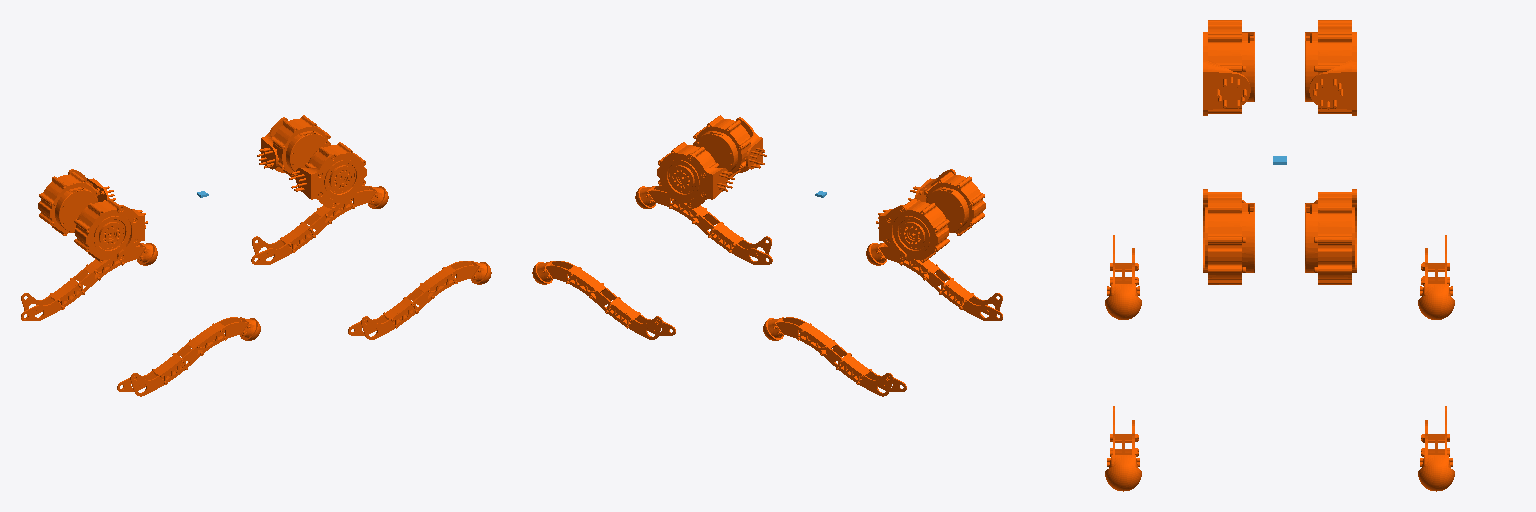
The robot description file, URDF, robot "rc":
<?xml version="1.0" ?>
<robot name="rc">
  <!--base_link comes from the new SolidWorks export; tuned legs/collisions come from old_rc_description.-->
  <material name="black">
    <color rgba="0.0 0.0 0.0 1.0"/>
  </material>
  <material name="blue">
    <color rgba="0.0 0.0 0.8 1.0"/>
  </material>
  <material name="green">
    <color rgba="0.0 0.8 0.0 1.0"/>
  </material>
  <material name="grey">
    <color rgba="0.2 0.2 0.2 1.0"/>
  </material>
  <material name="silver">
    <color rgba="0.9137254901960784 0.9137254901960784 0.8470588235294118 1.0"/>
  </material>
  <material name="orange">
    <color rgba="1.0 0.4235294117647059 0.0392156862745098 1.0"/>
  </material>
  <material name="brown">
    <color rgba="0.8705882352941177 0.8117647058823529 0.7647058823529411 1.0"/>
  </material>
  <material name="red">
    <color rgba="0.8 0.0 0.0 1.0"/>
  </material>
  <material name="white">
    <color rgba="1.0 1.0 1.0 1.0"/>
  </material>
  <link name="base_link">
    <inertial>
      <origin xyz="0.0018007 0.00050163 -0.0031242" rpy="0 0 0"/>
      <mass value="3.8805"/>
      <inertia ixx="0.0091487" ixy="2.5012E-07" ixz="-1.6225E-07" iyy="0.0093184" iyz="5.4053E-07" izz="0.015121"/>
    </inertial>
    <visual>
      <origin xyz="0 0 0" rpy="0 0 0"/>
      <geometry>
        <mesh filename="package://rc_description/meshes/base_link.STL"/>
      </geometry>
      <material name="">
        <color rgba="0.75294 0.75294 0.75294 1"/>
      </material>
    </visual>
    <collision>
      <origin xyz="0 0 0" rpy="0 0 0"/>
      <geometry>
        <box size="0.32 0.252 0.135"/>
      </geometry>
    </collision>
  </link>
  <joint name="base_imu_joint" type="fixed">
    <origin rpy="0. 0. 0." xyz="0. 0. 0."/>
    <parent link="base_link"/>
    <child link="base_imu"/>
  </joint>
  <link name="base_imu">
    <inertial>
      <mass value="0.01"/>
      <origin rpy="0 0 0" xyz="0 0 0"/>
      <inertia ixx="0.000001" ixy="0" ixz="0" iyy="0.000001" iyz="0" izz="0.000001"/>
    </inertial>
    <visual>
      <origin rpy="0 0 0" xyz="0 0 0"/>
      <geometry>
        <box size="0.015 0.015 0.004"/>
      </geometry>
    </visual>
    <material name="orange">
      <color rgba="255 108 10 255"/>
    </material>
  </link>
  <gazebo reference="base_imu">
    <material>Gazebo/Orange</material>
  </gazebo>
  <gazebo reference="base_imu_joint">
    <disableFixedJointLumping>true</disableFixedJointLumping>
  </gazebo>
  <joint name="FL_hip_joint" type="revolute">
    <origin rpy="0 0 0" xyz="0.2305 0.055 0.01"/>
    <parent link="base_link"/>
    <child link="FL_hip"/>
    <axis xyz="1 0 0"/>
    <dynamics damping="0" friction="0.001"/>
    <limit effort="53.5" lower="-0.9773843811168246" upper="0.9773843811168246" velocity="11"/>
  </joint>
  <link name="FL_hip">
    <visual>
      <origin rpy="0 0 0" xyz="0 0 0"/>
      <geometry>
        <mesh filename="package://rc_description/meshes/hip.dae" scale="1 1 1"/>
      </geometry>
      <material name="orange"/>
    </visual>
    <collision>
      <origin rpy="1.5707963267948966 0 0" xyz="0 0 0"/>
      <geometry>
        <cylinder length="0.0631" radius="0.06275"/>
      </geometry>
    </collision>
    <inertial>
      <origin rpy="0 0 0" xyz="-0.0055 0.0069 0.0001"/>
      <mass value="0.9754"/>
      <inertia ixx="0.0002" ixy="0.0000" ixz="0.0" iyy="0.0005" iyz="0" izz="0.0004"/>
    </inertial>
  </link>
  <joint name="FL_thigh_joint" type="revolute">
    <origin rpy="0 0 0" xyz="0 0.1231 0"/>
    <parent link="FL_hip"/>
    <child link="FL_thigh"/>
    <axis xyz="0 1 0"/>
    <dynamics damping="0" friction="0.001"/>
    <limit effort="53.5" lower="-1.0471975511965976" upper="4.1887902047863905" velocity="11"/>
  </joint>
  <link name="FL_thigh">
    <visual>
      <origin rpy="0 0 0" xyz="0 0 0"/>
      <geometry>
        <mesh filename="package://rc_description/meshes/thigh.dae" scale="1 1 1"/>
      </geometry>
      <material name="orange"/>
    </visual>
    <collision>
      <origin rpy="0 1.4707963267948965 0" xyz="-0.005 0 -0.125"/>
      <geometry>
        <box size="0.25 0.065 0.085"/>
      </geometry>
    </collision>
    <collision>
      <origin rpy="1.5707963267948966 0 0" xyz="0 0.0035 0"/>
      <geometry>
        <cylinder length="0.0655" radius="0.054"/>
      </geometry>
    </collision>
    <inertial>
      <origin rpy="0 0 0" xyz="-0.0016 -0.0343 -0.0343"/>
      <mass value="1.6868"/>
      <inertia ixx="0.0119" ixy="0" ixz="-0.0000" iyy="0.0110" iyz="0.0019" izz="0.0020"/>
    </inertial>
  </link>
  <joint name="FL_calf_joint" type="revolute">
    <origin rpy="0 0 0" xyz="0 0 -0.25"/>
    <parent link="FL_thigh"/>
    <child link="FL_calf"/>
    <axis xyz="0 1 0"/>
    <dynamics damping="0" friction="0.001"/>
    <limit effort="53.5" lower="-2.8012534494508987" upper="-0.7417649320975901" velocity="11"/>
  </joint>
  <link name="FL_calf">
    <visual>
      <origin rpy="0 0 0" xyz="0 0 0"/>
      <geometry>
        <mesh filename="package://rc_description/meshes/calf.dae" scale="1 1 1"/>
      </geometry>
      <material name="orange"/>
    </visual>
    <collision>
      <origin rpy="0 1.2707963267948965 0" xyz="0.005 0 -0.06335"/>
      <geometry>
        <box size="0.1067 0.02988 0.024"/>
      </geometry>
    </collision>
    <inertial>
      <origin rpy="0 0 0" xyz="0.0149 -0.0003 -0.1396"/>
      <mass value="0.1304"/>
      <inertia ixx="0.0008" ixy="0.0" ixz="0.0001" iyy="0.0008" iyz="0.0" izz="0.0001"/>
    </inertial>
  </link>
  <joint dont_collapse="true" name="FL_calflower_joint" type="fixed">
    <origin rpy="0 0 0" xyz="0 0 -0.1"/>
    <parent link="FL_calf"/>
    <child link="FL_calflower"/>
  </joint>
  <link name="FL_calflower">
    <collision>
      <origin rpy="0 1.407963267948966 0" xyz="0.026 0 -0.04"/>
      <geometry>
        <box size="0.05 0.0258 0.025"/>
      </geometry>
    </collision>
  </link>
  <joint name="FL_calflower1_joint" type="fixed">
    <origin rpy="0 1.707963267948966 0" xyz="0.03 0 -0.09"/>
    <parent link="FL_calflower"/>
    <child link="FL_calflower1"/>
    <axis xyz="0 0 0"/>
  </joint>
  <link name="FL_calflower1">
    <collision>
      <origin rpy="0 0 0" xyz="0 0 0"/>
      <geometry>
        <box size="0.05 0.0258 0.025"/>
      </geometry>
    </collision>
  </link>
  <joint dont_collapse="true" name="FL_foot_fixed" type="fixed">
    <origin rpy="0 0 0" xyz="0.01 0 -0.2287"/>
    <parent link="FL_calf"/>
    <child link="FL_foot"/>
  </joint>
  <link name="FL_foot">
    <visual>
      <origin rpy="0 0 0" xyz="0 0 0"/>
      <geometry>
        <sphere radius="0.011000000000000001"/>
      </geometry>
      <material name="orange"/>
    </visual>
    <collision>
      <origin rpy="0 0 0" xyz="0 0 0"/>
      <geometry>
        <sphere radius="0.021"/>
      </geometry>
    </collision>
    <inertial>
      <mass value="0.0911609"/>
      <inertia ixx="1.608078276e-05" ixy="0.0" ixz="0.0" iyy="1.608078276e-05" iyz="0.0" izz="1.608078276e-05"/>
    </inertial>
  </link>
  <gazebo reference="FL_foot_fixed">
    <disableFixedJointLumping>true</disableFixedJointLumping>
  </gazebo>
  <gazebo reference="FL_hip">
    <mu1>0.2</mu1>
    <mu2>0.2</mu2>
    <material>Gazebo/DarkGrey</material>
  </gazebo>
  <gazebo reference="FL_thigh">
    <mu1>0.2</mu1>
    <mu2>0.2</mu2>
    <self_collide>1</self_collide>
    <material>Gazebo/DarkGrey</material>
    <kp value="1000000.0"/>
    <kd value="1.0"/>
  </gazebo>
  <gazebo reference="FL_calf">
    <mu1>0.2</mu1>
    <mu2>0.2</mu2>
    <self_collide>1</self_collide>
  </gazebo>
  <gazebo reference="FL_foot">
    <mu1>0.6</mu1>
    <mu2>0.6</mu2>
    <self_collide>1</self_collide>
    <material>Gazebo/DarkGrey</material>
    <kp value="1000000.0"/>
    <kd value="1.0"/>
  </gazebo>
  <joint name="RL_hip_joint" type="revolute">
    <origin rpy="0 0 0" xyz="-0.2305 0.055 0.01"/>
    <parent link="base_link"/>
    <child link="RL_hip"/>
    <axis xyz="1 0 0"/>
    <dynamics damping="0" friction="0.001"/>
    <limit effort="53.5" lower="-0.9773843811168246" upper="0.9773843811168246" velocity="11"/>
  </joint>
  <link name="RL_hip">
    <visual>
      <origin rpy="0 3.141592653589793 0" xyz="0 0 0"/>
      <geometry>
        <mesh filename="package://rc_description/meshes/hip.dae" scale="1 1 1"/>
      </geometry>
      <material name="orange"/>
    </visual>
    <collision>
      <origin rpy="1.5707963267948966 0 0" xyz="0 0 0"/>
      <geometry>
        <cylinder length="0.0631" radius="0.06275"/>
      </geometry>
    </collision>
    <inertial>
      <origin rpy="0 0 0" xyz="0.0055 0.0069 0.0001"/>
      <mass value="0.9754"/>
      <inertia ixx="0.0002" ixy="-0.0000" ixz="-0.0" iyy="0.0005" iyz="0" izz="0.0004"/>
    </inertial>
  </link>
  <joint name="RL_thigh_joint" type="revolute">
    <origin rpy="0 0 0" xyz="0 0.1231 0"/>
    <parent link="RL_hip"/>
    <child link="RL_thigh"/>
    <axis xyz="0 1 0"/>
    <dynamics damping="0" friction="0.001"/>
    <limit effort="53.5" lower="-1.0471975511965976" upper="4.1887902047863905" velocity="11"/>
  </joint>
  <link name="RL_thigh">
    <visual>
      <origin rpy="0 0 0" xyz="0 0 0"/>
      <geometry>
        <mesh filename="package://rc_description/meshes/thigh.dae" scale="1 1 1"/>
      </geometry>
      <material name="orange"/>
    </visual>
    <collision>
      <origin rpy="0 1.4707963267948965 0" xyz="-0.005 0 -0.125"/>
      <geometry>
        <box size="0.25 0.065 0.085"/>
      </geometry>
    </collision>
    <collision>
      <origin rpy="1.5707963267948966 0 0" xyz="0 0.0035 0"/>
      <geometry>
        <cylinder length="0.0655" radius="0.054"/>
      </geometry>
    </collision>
    <inertial>
      <origin rpy="0 0 0" xyz="-0.0016 -0.0343 -0.0343"/>
      <mass value="1.6868"/>
      <inertia ixx="0.0119" ixy="0" ixz="-0.0000" iyy="0.0110" iyz="0.0019" izz="0.0020"/>
    </inertial>
  </link>
  <joint name="RL_calf_joint" type="revolute">
    <origin rpy="0 0 0" xyz="0 0 -0.25"/>
    <parent link="RL_thigh"/>
    <child link="RL_calf"/>
    <axis xyz="0 1 0"/>
    <dynamics damping="0" friction="0.001"/>
    <limit effort="53.5" lower="-2.8012534494508987" upper="-0.7417649320975901" velocity="11"/>
  </joint>
  <link name="RL_calf">
    <visual>
      <origin rpy="0 0 0" xyz="0 0 0"/>
      <geometry>
        <mesh filename="package://rc_description/meshes/calf.dae" scale="1 1 1"/>
      </geometry>
      <material name="orange"/>
    </visual>
    <collision>
      <origin rpy="0 1.2707963267948965 0" xyz="0.005 0 -0.06335"/>
      <geometry>
        <box size="0.1067 0.02988 0.024"/>
      </geometry>
    </collision>
    <inertial>
      <origin rpy="0 0 0" xyz="0.0149 -0.0003 -0.1396"/>
      <mass value="0.1304"/>
      <inertia ixx="0.0008" ixy="0.0" ixz="0.0001" iyy="0.0008" iyz="0.0" izz="0.0001"/>
    </inertial>
  </link>
  <joint dont_collapse="true" name="RL_calflower_joint" type="fixed">
    <origin rpy="0 0 0" xyz="0 0 -0.1"/>
    <parent link="RL_calf"/>
    <child link="RL_calflower"/>
  </joint>
  <link name="RL_calflower">
    <collision>
      <origin rpy="0 1.407963267948966 0" xyz="0.026 0 -0.04"/>
      <geometry>
        <box size="0.05 0.0258 0.025"/>
      </geometry>
    </collision>
  </link>
  <joint name="RL_calflower1_joint" type="fixed">
    <origin rpy="0 1.707963267948966 0" xyz="0.03 0 -0.09"/>
    <parent link="RL_calflower"/>
    <child link="RL_calflower1"/>
    <axis xyz="0 0 0"/>
  </joint>
  <link name="RL_calflower1">
    <collision>
      <origin rpy="0 0 0" xyz="0 0 0"/>
      <geometry>
        <box size="0.05 0.0258 0.025"/>
      </geometry>
    </collision>
  </link>
  <joint dont_collapse="true" name="RL_foot_fixed" type="fixed">
    <origin rpy="0 0 0" xyz="0.01 0 -0.2287"/>
    <parent link="RL_calf"/>
    <child link="RL_foot"/>
  </joint>
  <link name="RL_foot">
    <visual>
      <origin rpy="0 0 0" xyz="0 0 0"/>
      <geometry>
        <sphere radius="0.011000000000000001"/>
      </geometry>
      <material name="orange"/>
    </visual>
    <collision>
      <origin rpy="0 0 0" xyz="0 0 0"/>
      <geometry>
        <sphere radius="0.021"/>
      </geometry>
    </collision>
    <inertial>
      <mass value="0.0911609"/>
      <inertia ixx="1.608078276e-05" ixy="0.0" ixz="0.0" iyy="1.608078276e-05" iyz="0.0" izz="1.608078276e-05"/>
    </inertial>
  </link>
  <gazebo reference="RL_foot_fixed">
    <disableFixedJointLumping>true</disableFixedJointLumping>
  </gazebo>
  <gazebo reference="RL_hip">
    <mu1>0.2</mu1>
    <mu2>0.2</mu2>
    <material>Gazebo/DarkGrey</material>
  </gazebo>
  <gazebo reference="RL_thigh">
    <mu1>0.2</mu1>
    <mu2>0.2</mu2>
    <self_collide>1</self_collide>
    <material>Gazebo/DarkGrey</material>
    <kp value="1000000.0"/>
    <kd value="1.0"/>
  </gazebo>
  <gazebo reference="RL_calf">
    <mu1>0.2</mu1>
    <mu2>0.2</mu2>
    <self_collide>1</self_collide>
  </gazebo>
  <gazebo reference="RL_foot">
    <mu1>0.6</mu1>
    <mu2>0.6</mu2>
    <self_collide>1</self_collide>
    <material>Gazebo/DarkGrey</material>
    <kp value="1000000.0"/>
    <kd value="1.0"/>
  </gazebo>
  <joint name="FR_hip_joint" type="revolute">
    <origin rpy="0 0 0" xyz="0.2305 -0.055 0.01"/>
    <parent link="base_link"/>
    <child link="FR_hip"/>
    <axis xyz="1 0 0"/>
    <dynamics damping="0" friction="0.001"/>
    <limit effort="53.5" lower="-0.9773843811168246" upper="0.9773843811168246" velocity="11"/>
  </joint>
  <link name="FR_hip">
    <visual>
      <origin rpy="3.141592653589793 0 0" xyz="0 0 0"/>
      <geometry>
        <mesh filename="package://rc_description/meshes/hip.dae" scale="1 1 1"/>
      </geometry>
      <material name="orange"/>
    </visual>
    <collision>
      <origin rpy="1.5707963267948966 0 0" xyz="0 0 0"/>
      <geometry>
        <cylinder length="0.0631" radius="0.06275"/>
      </geometry>
    </collision>
    <inertial>
      <origin rpy="0 0 0" xyz="-0.0055 -0.0069 0.0001"/>
      <mass value="0.9754"/>
      <inertia ixx="0.0002" ixy="-0.0000" ixz="0.0" iyy="0.0005" iyz="0" izz="0.0004"/>
    </inertial>
  </link>
  <joint name="FR_thigh_joint" type="revolute">
    <origin rpy="0 0 0" xyz="0 -0.1231 0"/>
    <parent link="FR_hip"/>
    <child link="FR_thigh"/>
    <axis xyz="0 1 0"/>
    <dynamics damping="0" friction="0.001"/>
    <limit effort="53.5" lower="-1.0471975511965976" upper="4.1887902047863905" velocity="11"/>
  </joint>
  <link name="FR_thigh">
    <visual>
      <origin rpy="0 0 0" xyz="0 0 0"/>
      <geometry>
        <mesh filename="package://rc_description/meshes/thigh_mirror.dae" scale="1 1 1"/>
      </geometry>
      <material name="orange"/>
    </visual>
    <collision>
      <origin rpy="0 1.4707963267948965 0" xyz="-0.005 0 -0.125"/>
      <geometry>
        <box size="0.25 0.065 0.085"/>
      </geometry>
    </collision>
    <collision>
      <origin rpy="1.5707963267948966 0 0" xyz="0 -0.0035 0"/>
      <geometry>
        <cylinder length="0.0655" radius="0.054"/>
      </geometry>
    </collision>
    <inertial>
      <origin rpy="0 0 0" xyz="-0.0016 0.0343 -0.0343"/>
      <mass value="1.6868"/>
      <inertia ixx="0.0119" ixy="-0" ixz="-0.0000" iyy="0.0110" iyz="-0.0019" izz="0.0020"/>
    </inertial>
  </link>
  <joint name="FR_calf_joint" type="revolute">
    <origin rpy="0 0 0" xyz="0 0 -0.25"/>
    <parent link="FR_thigh"/>
    <child link="FR_calf"/>
    <axis xyz="0 1 0"/>
    <dynamics damping="0" friction="0.001"/>
    <limit effort="53.5" lower="-2.8012534494508987" upper="-0.7417649320975901" velocity="11"/>
  </joint>
  <link name="FR_calf">
    <visual>
      <origin rpy="0 0 0" xyz="0 0 0"/>
      <geometry>
        <mesh filename="package://rc_description/meshes/calf_mirror.dae" scale="1 1 1"/>
      </geometry>
      <material name="orange"/>
    </visual>
    <collision>
      <origin rpy="0 1.2707963267948965 0" xyz="0.005 0 -0.06335"/>
      <geometry>
        <box size="0.1067 0.02988 0.024"/>
      </geometry>
    </collision>
    <inertial>
      <origin rpy="0 0 0" xyz="0.0149 -0.0003 -0.1396"/>
      <mass value="0.1304"/>
      <inertia ixx="0.0008" ixy="-0.0" ixz="0.0001" iyy="0.0008" iyz="-0.0" izz="0.00005"/>
    </inertial>
  </link>
  <joint dont_collapse="true" name="FR_calflower_joint" type="fixed">
    <origin rpy="0 0 0" xyz="0 0 -0.1"/>
    <parent link="FR_calf"/>
    <child link="FR_calflower"/>
  </joint>
  <link name="FR_calflower">
    <collision>
      <origin rpy="0 1.407963267948966 0" xyz="0.026 0 -0.04"/>
      <geometry>
        <box size="0.05 0.0258 0.025"/>
      </geometry>
    </collision>
  </link>
  <joint name="FR_calflower1_joint" type="fixed">
    <origin rpy="0 1.707963267948966 0" xyz="0.03 0 -0.09"/>
    <parent link="FR_calflower"/>
    <child link="FR_calflower1"/>
    <axis xyz="0 0 0"/>
  </joint>
  <link name="FR_calflower1">
    <collision>
      <origin rpy="0 0 0" xyz="0 0 0"/>
      <geometry>
        <box size="0.05 0.0258 0.025"/>
      </geometry>
    </collision>
  </link>
  <joint dont_collapse="true" name="FR_foot_fixed" type="fixed">
    <origin rpy="0 0 0" xyz="0.01 0 -0.2287"/>
    <parent link="FR_calf"/>
    <child link="FR_foot"/>
  </joint>
  <link name="FR_foot">
    <visual>
      <origin rpy="0 0 0" xyz="0 0 0"/>
      <geometry>
        <sphere radius="0.011000000000000001"/>
      </geometry>
      <material name="orange"/>
    </visual>
    <collision>
      <origin rpy="0 0 0" xyz="0 0 0"/>
      <geometry>
        <sphere radius="0.021"/>
      </geometry>
    </collision>
    <inertial>
      <mass value="0.0911609"/>
      <inertia ixx="1.608078276e-05" ixy="0.0" ixz="0.0" iyy="1.608078276e-05" iyz="0.0" izz="1.608078276e-05"/>
    </inertial>
  </link>
  <gazebo reference="FR_foot_fixed">
    <disableFixedJointLumping>true</disableFixedJointLumping>
  </gazebo>
  <gazebo reference="FR_hip">
    <mu1>0.2</mu1>
    <mu2>0.2</mu2>
    <material>Gazebo/DarkGrey</material>
  </gazebo>
  <gazebo reference="FR_thigh">
    <mu1>0.2</mu1>
    <mu2>0.2</mu2>
    <self_collide>1</self_collide>
    <material>Gazebo/DarkGrey</material>
    <kp value="1000000.0"/>
    <kd value="1.0"/>
  </gazebo>
  <gazebo reference="FR_calf">
    <mu1>0.2</mu1>
    <mu2>0.2</mu2>
    <self_collide>1</self_collide>
  </gazebo>
  <gazebo reference="FR_foot">
    <mu1>0.6</mu1>
    <mu2>0.6</mu2>
    <self_collide>1</self_collide>
    <material>Gazebo/DarkGrey</material>
    <kp value="1000000.0"/>
    <kd value="1.0"/>
  </gazebo>
  <joint name="RR_hip_joint" type="revolute">
    <origin rpy="0 0 0" xyz="-0.2305 -0.055 0.01"/>
    <parent link="base_link"/>
    <child link="RR_hip"/>
    <axis xyz="1 0 0"/>
    <dynamics damping="0" friction="0.001"/>
    <limit effort="53.5" lower="-0.9773843811168246" upper="0.9773843811168246" velocity="11"/>
  </joint>
  <link name="RR_hip">
    <visual>
      <origin rpy="3.141592653589793 3.141592653589793 0" xyz="0 0 0"/>
      <geometry>
        <mesh filename="package://rc_description/meshes/hip.dae" scale="1 1 1"/>
      </geometry>
      <material name="orange"/>
    </visual>
    <collision>
      <origin rpy="1.5707963267948966 0 0" xyz="0 0 0"/>
      <geometry>
        <cylinder length="0.0631" radius="0.06275"/>
      </geometry>
    </collision>
    <inertial>
      <origin rpy="0 0 0" xyz="0.0055 -0.0069 0.0001"/>
      <mass value="0.9754"/>
      <inertia ixx="0.0002" ixy="0.0000" ixz="-0.0" iyy="0.0005" iyz="0" izz="0.0004"/>
    </inertial>
  </link>
  <joint name="RR_thigh_joint" type="revolute">
    <origin rpy="0 0 0" xyz="0 -0.1231 0"/>
    <parent link="RR_hip"/>
    <child link="RR_thigh"/>
    <axis xyz="0 1 0"/>
    <dynamics damping="0" friction="0.001"/>
    <limit effort="53.5" lower="-1.0471975511965976" upper="4.1887902047863905" velocity="11"/>
  </joint>
  <link name="RR_thigh">
    <visual>
      <origin rpy="0 0 0" xyz="0 0 0"/>
      <geometry>
        <mesh filename="package://rc_description/meshes/thigh_mirror.dae" scale="1 1 1"/>
      </geometry>
      <material name="orange"/>
    </visual>
    <collision>
      <origin rpy="0 1.4707963267948965 0" xyz="-0.005 0 -0.125"/>
      <geometry>
        <box size="0.25 0.065 0.085"/>
      </geometry>
    </collision>
    <collision>
      <origin rpy="1.5707963267948966 0 0" xyz="0 -0.0035 0"/>
      <geometry>
        <cylinder length="0.0655" radius="0.054"/>
      </geometry>
    </collision>
    <inertial>
      <origin rpy="0 0 0" xyz="-0.0016 0.0343 -0.0343"/>
      <mass value="1.6868"/>
      <inertia ixx="0.0119" ixy="-0" ixz="-0.0000" iyy="0.0110" iyz="-0.0019" izz="0.0020"/>
    </inertial>
  </link>
  <joint name="RR_calf_joint" type="revolute">
    <origin rpy="0 0 0" xyz="0 0 -0.25"/>
    <parent link="RR_thigh"/>
    <child link="RR_calf"/>
    <axis xyz="0 1 0"/>
    <dynamics damping="0" friction="0.001"/>
    <limit effort="53.5" lower="-2.8012534494508987" upper="-0.7417649320975901" velocity="11"/>
  </joint>
  <link name="RR_calf">
    <visual>
      <origin rpy="0 0 0" xyz="0 0 0"/>
      <geometry>
        <mesh filename="package://rc_description/meshes/calf_mirror.dae" scale="1 1 1"/>
      </geometry>
      <material name="orange"/>
    </visual>
    <collision>
      <origin rpy="0 1.2707963267948965 0" xyz="0.005 0 -0.06335"/>
      <geometry>
        <box size="0.1067 0.02988 0.024"/>
      </geometry>
    </collision>
    <inertial>
      <origin rpy="0 0 0" xyz="0.0149 -0.0003 -0.1396"/>
      <mass value="0.1304"/>
      <inertia ixx="0.0008" ixy="-0.0" ixz="0.0001" iyy="0.0008" iyz="-0.0" izz="0.00005"/>
    </inertial>
  </link>
  <joint dont_collapse="true" name="RR_calflower_joint" type="fixed">
    <origin rpy="0 0 0" xyz="0 0 -0.1"/>
    <parent link="RR_calf"/>
    <child link="RR_calflower"/>
  </joint>
  <link name="RR_calflower">
    <collision>
      <origin rpy="0 1.407963267948966 0" xyz="0.026 0 -0.04"/>
      <geometry>
        <box size="0.05 0.0258 0.025"/>
      </geometry>
    </collision>
  </link>
  <joint name="RR_calflower1_joint" type="fixed">
    <origin rpy="0 1.707963267948966 0" xyz="0.03 0 -0.09"/>
    <parent link="RR_calflower"/>
    <child link="RR_calflower1"/>
    <axis xyz="0 0 0"/>
  </joint>
  <link name="RR_calflower1">
    <collision>
      <origin rpy="0 0 0" xyz="0 0 0"/>
      <geometry>
        <box size="0.05 0.0258 0.025"/>
      </geometry>
    </collision>
  </link>
  <joint dont_collapse="true" name="RR_foot_fixed" type="fixed">
    <origin rpy="0 0 0" xyz="0.01 0 -0.2287"/>
    <parent link="RR_calf"/>
    <child link="RR_foot"/>
  </joint>
  <link name="RR_foot">
    <visual>
      <origin rpy="0 0 0" xyz="0 0 0"/>
      <geometry>
        <sphere radius="0.011000000000000001"/>
      </geometry>
      <material name="orange"/>
    </visual>
    <collision>
      <origin rpy="0 0 0" xyz="0 0 0"/>
      <geometry>
        <sphere radius="0.021"/>
      </geometry>
    </collision>
    <inertial>
      <mass value="0.0911609"/>
      <inertia ixx="1.608078276e-05" ixy="0.0" ixz="0.0" iyy="1.608078276e-05" iyz="0.0" izz="1.608078276e-05"/>
    </inertial>
  </link>
  <gazebo reference="RR_foot_fixed">
    <disableFixedJointLumping>true</disableFixedJointLumping>
  </gazebo>
  <gazebo reference="RR_hip">
    <mu1>0.2</mu1>
    <mu2>0.2</mu2>
    <material>Gazebo/DarkGrey</material>
  </gazebo>
  <gazebo reference="RR_thigh">
    <mu1>0.2</mu1>
    <mu2>0.2</mu2>
    <self_collide>1</self_collide>
    <material>Gazebo/DarkGrey</material>
    <kp value="1000000.0"/>
    <kd value="1.0"/>
  </gazebo>
  <gazebo reference="RR_calf">
    <mu1>0.2</mu1>
    <mu2>0.2</mu2>
    <self_collide>1</self_collide>
  </gazebo>
  <gazebo reference="RR_foot">
    <mu1>0.6</mu1>
    <mu2>0.6</mu2>
    <self_collide>1</self_collide>
    <material>Gazebo/DarkGrey</material>
    <kp value="1000000.0"/>
    <kd value="1.0"/>
  </gazebo>
</robot>

--- What the picture shows (computed from the rendered views, not written in the file) ---
3 views of the same robot in one strip: view 1: azimuth 30°, elevation 25°; view 2: azimuth 150°, elevation 25°; view 3: azimuth 270°, elevation 25° (orthographic).
Model rc with 26 links and 25 joints (12 revolute, 13 fixed), rooted at base_link, posed all joints at 0 but 4 set to mid-range because 0 is outside their limits (FL_calf_joint = -1.77, RL_calf_joint = -1.77, FR_calf_joint = -1.77, RR_calf_joint = -1.77).
Visible links, largest first — view 1: RR_hip, FR_hip, FR_calf, RR_calf, FL_hip, RL_hip, FL_calf, RL_calf; view 2: RL_hip, FL_hip, FL_calf, RL_calf, FR_hip, RR_hip, FR_calf, RR_calf; view 3: RL_hip, RR_hip, FL_hip, FR_hip, RL_calf, RR_calf, FL_calf, FR_calf.
Boxes of the visible links, x1,y1,x2,y2 form: RR_hip: (74, 198, 147, 262); FR_hip: (289, 142, 366, 208); FR_calf: (348, 261, 491, 339); RR_calf: (117, 317, 260, 396); FL_hip: (257, 115, 330, 179); RL_hip: (38, 169, 115, 235); FL_calf: (251, 185, 388, 264); RL_calf: (21, 242, 157, 320); RL_hip: (876, 198, 949, 262); FL_hip: (657, 142, 734, 208); FL_calf: (532, 261, 675, 339); RL_calf: (763, 317, 906, 396); FR_hip: (693, 115, 766, 179); RR_hip: (908, 169, 985, 235); FR_calf: (635, 185, 772, 264); RR_calf: (866, 242, 1002, 320); RL_hip: (1305, 20, 1356, 115); RR_hip: (1203, 20, 1254, 115); FL_hip: (1305, 189, 1356, 284); FR_hip: (1203, 189, 1254, 284); RL_calf: (1418, 235, 1454, 319); RR_calf: (1105, 235, 1141, 319); FL_calf: (1418, 406, 1454, 491); FR_calf: (1105, 406, 1141, 491).
Bounding box of the posed robot: 0.752 × 0.3981 × 0.3172 m (x, y, z).
8 mesh visuals loaded from 6 distinct referenced files (3 Collada DAE); not drawn: 5 (reference not matched to a file when rendering).
